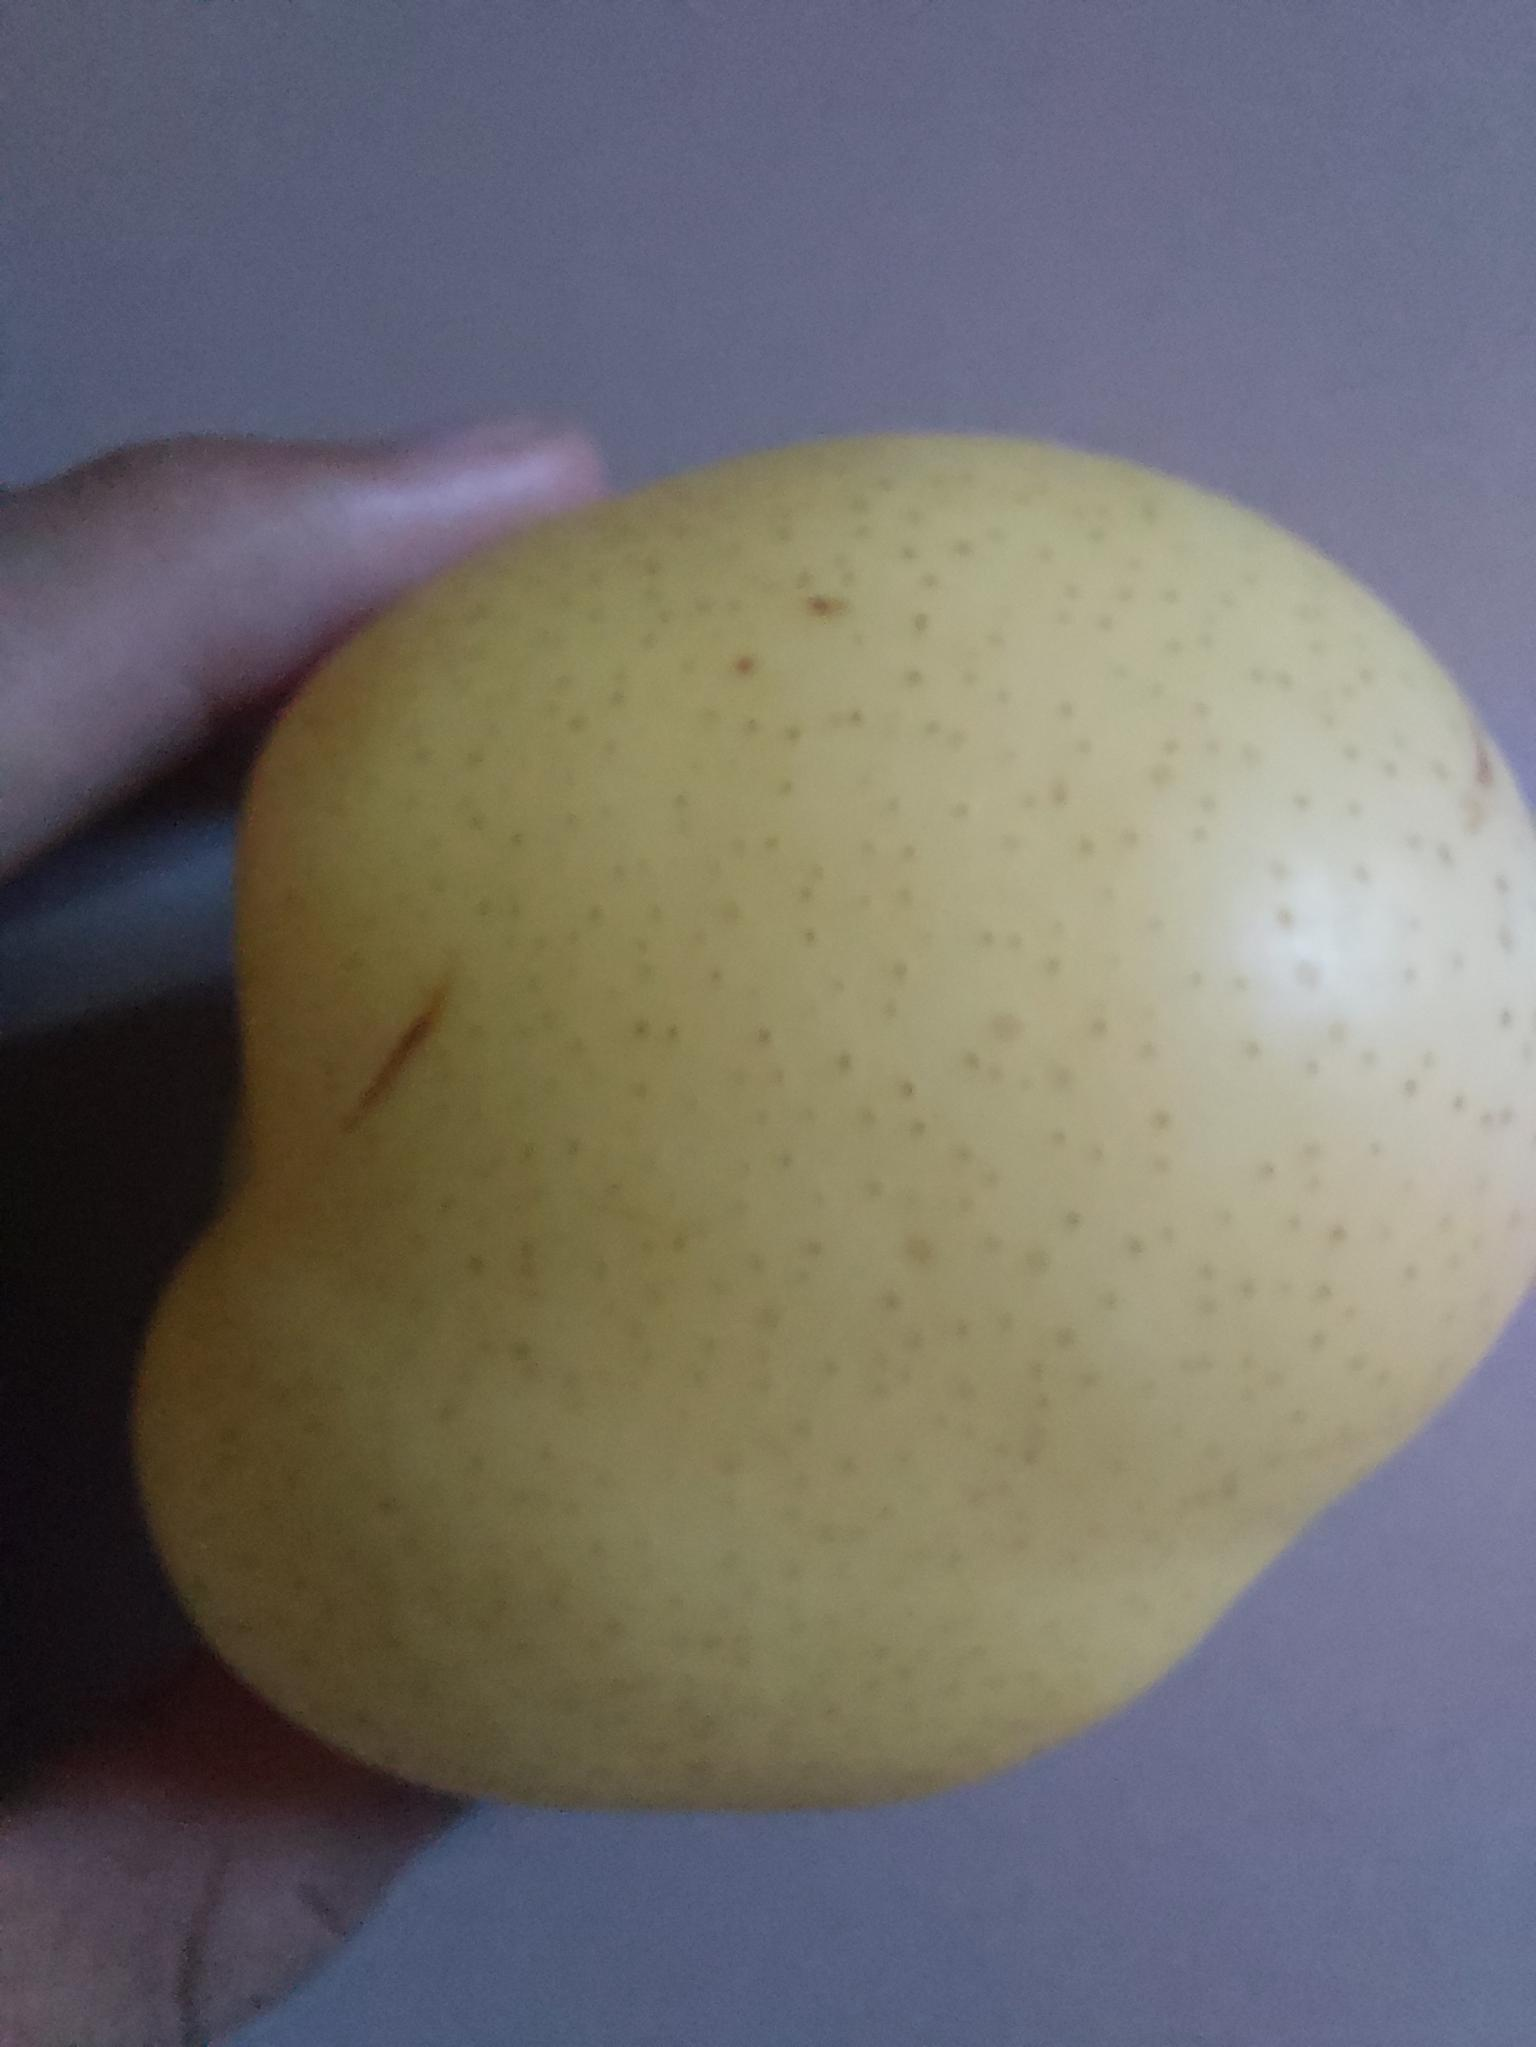Good Pear: (116, 423, 1536, 1808)
